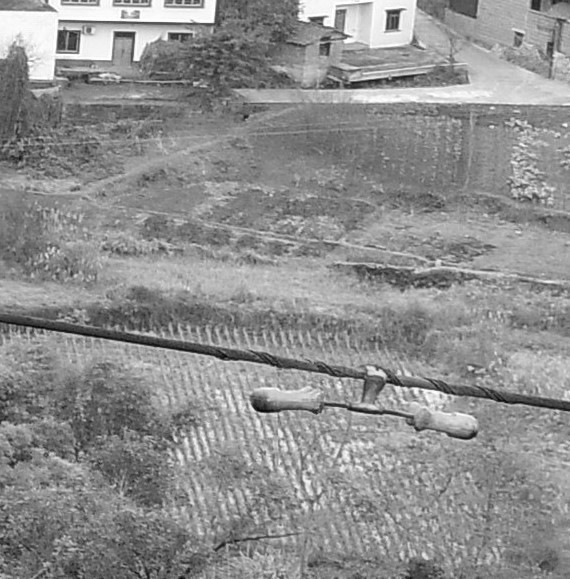Shockproof hammer: (241, 348, 484, 445)
